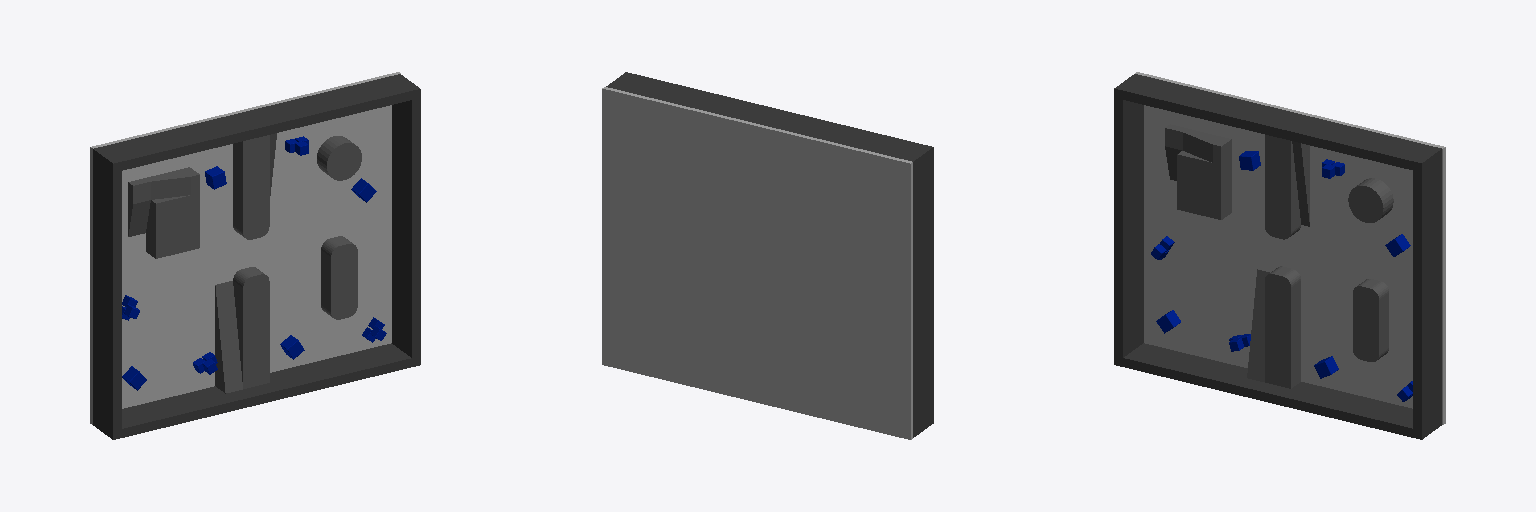
The picture shows the model from 3 angles: view 1: azimuth 30°, elevation 25°; view 2: azimuth 150°, elevation 25°; view 3: azimuth 330°, elevation 25°; orthographic projection.
Visible parts, largest first — view 1: SM_SM_MERGED_StaticMeshActor_2; view 2: SM_SM_MERGED_StaticMeshActor_2; view 3: SM_SM_MERGED_StaticMeshActor_2.
Part boxes in pixels (x1,y1,x2,y2): SM_SM_MERGED_StaticMeshActor_2: (90,72,420,439); SM_SM_MERGED_StaticMeshActor_2: (602,72,933,439); SM_SM_MERGED_StaticMeshActor_2: (1114,72,1445,439).
Size of the model in its own units: 35 by 30 by 4.5.
4 materials, 1 textured.